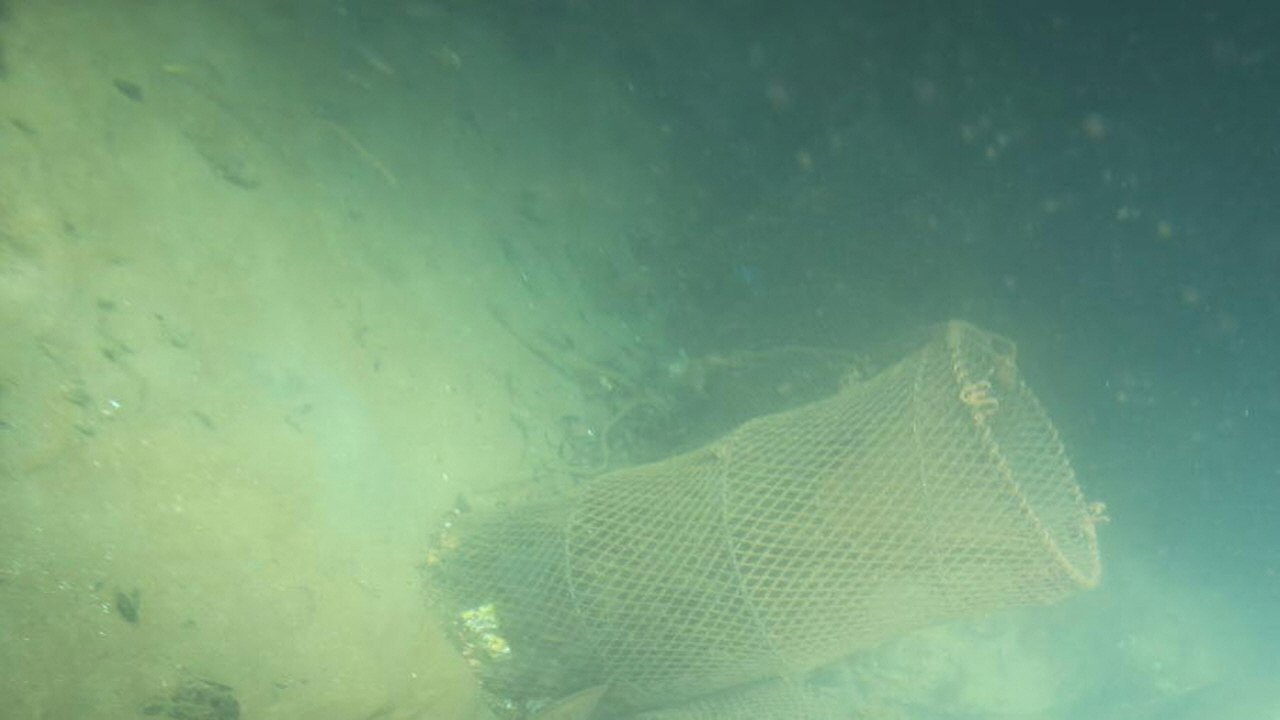spring fish trap: (425, 317, 1104, 720)
